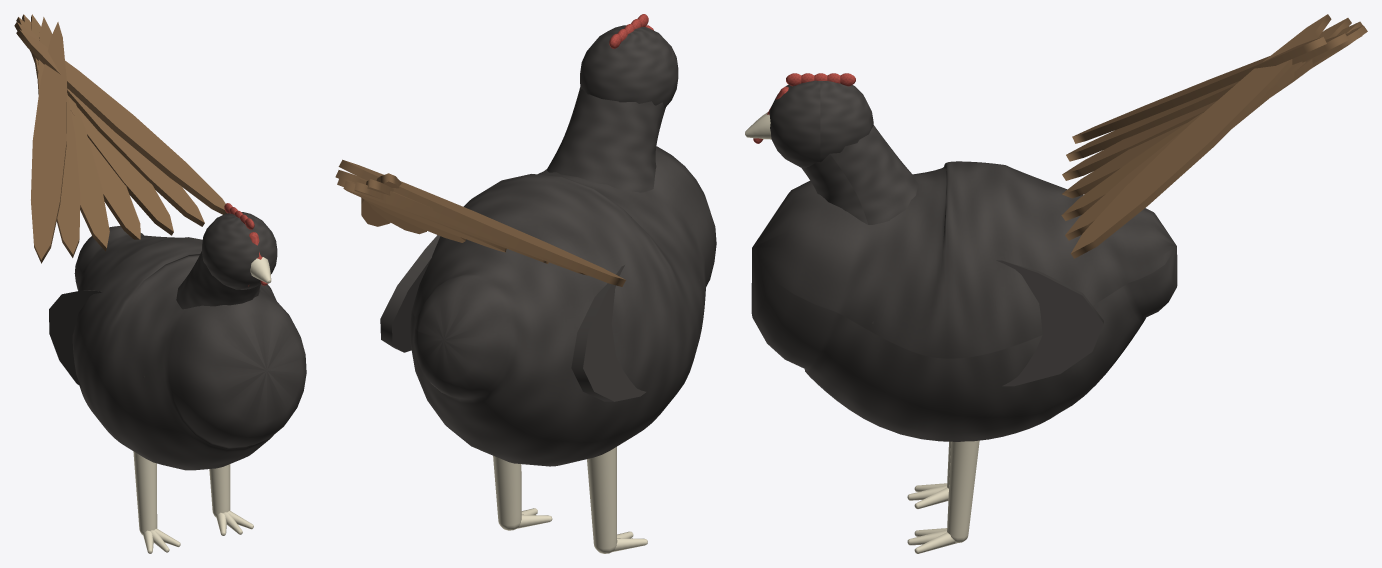
The model's file is farm-and-working-animals-hd-turkey-e0842702__29203.glb.
3 renders of one model, left to right at view 1: azimuth 30°, elevation 25°; view 2: azimuth 150°, elevation 25°; view 3: azimuth 270°, elevation 25°, orthographic. The views are drawn at different scales.
Visible parts, largest first — view 1: turkey; view 2: turkey; view 3: turkey.
Part boxes in pixels (x1,y1,x2,y2): turkey: (14, 14, 306, 553); turkey: (335, 14, 716, 553); turkey: (745, 14, 1367, 553).
Bounding box in the file's own units: 0.4175 × 0.829 × 0.9404.
4 materials, 3 textured.
